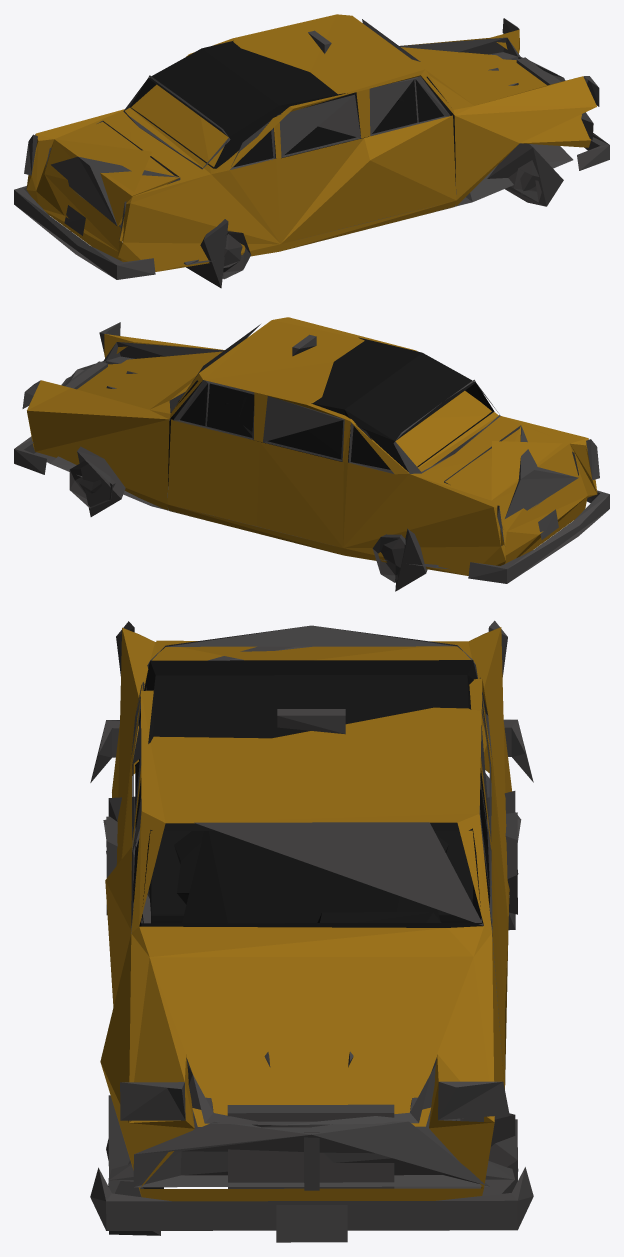
The model's file is taxi.lod1.glb.
3 renders of one model, top to bottom at view 1: azimuth 30°, elevation 25°; view 2: azimuth 150°, elevation 25°; view 3: azimuth 270°, elevation 25°, orthographic. The views are drawn at different scales.
Parts seen in each view (by area): view 1: Canyon75_Body_Canyon75_Bodymat_0; view 2: Canyon75_Body_Canyon75_Bodymat_0; view 3: Canyon75_Body_Canyon75_Bodymat_0.
Boxes of the visible parts, x1,y1,x2,y2 form: Canyon75_Body_Canyon75_Bodymat_0: (14, 14, 609, 288); Canyon75_Body_Canyon75_Bodymat_0: (14, 317, 609, 591); Canyon75_Body_Canyon75_Bodymat_0: (90, 620, 533, 1242).
Size of the model in its own units: 4.98 by 1.69 by 1.9.
